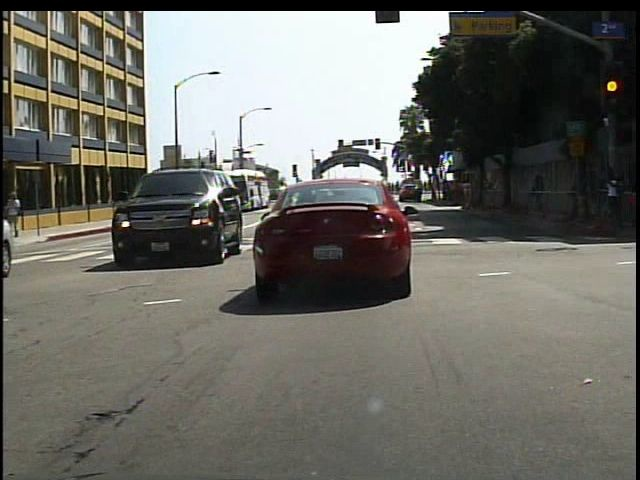person: (7, 189, 29, 238)
